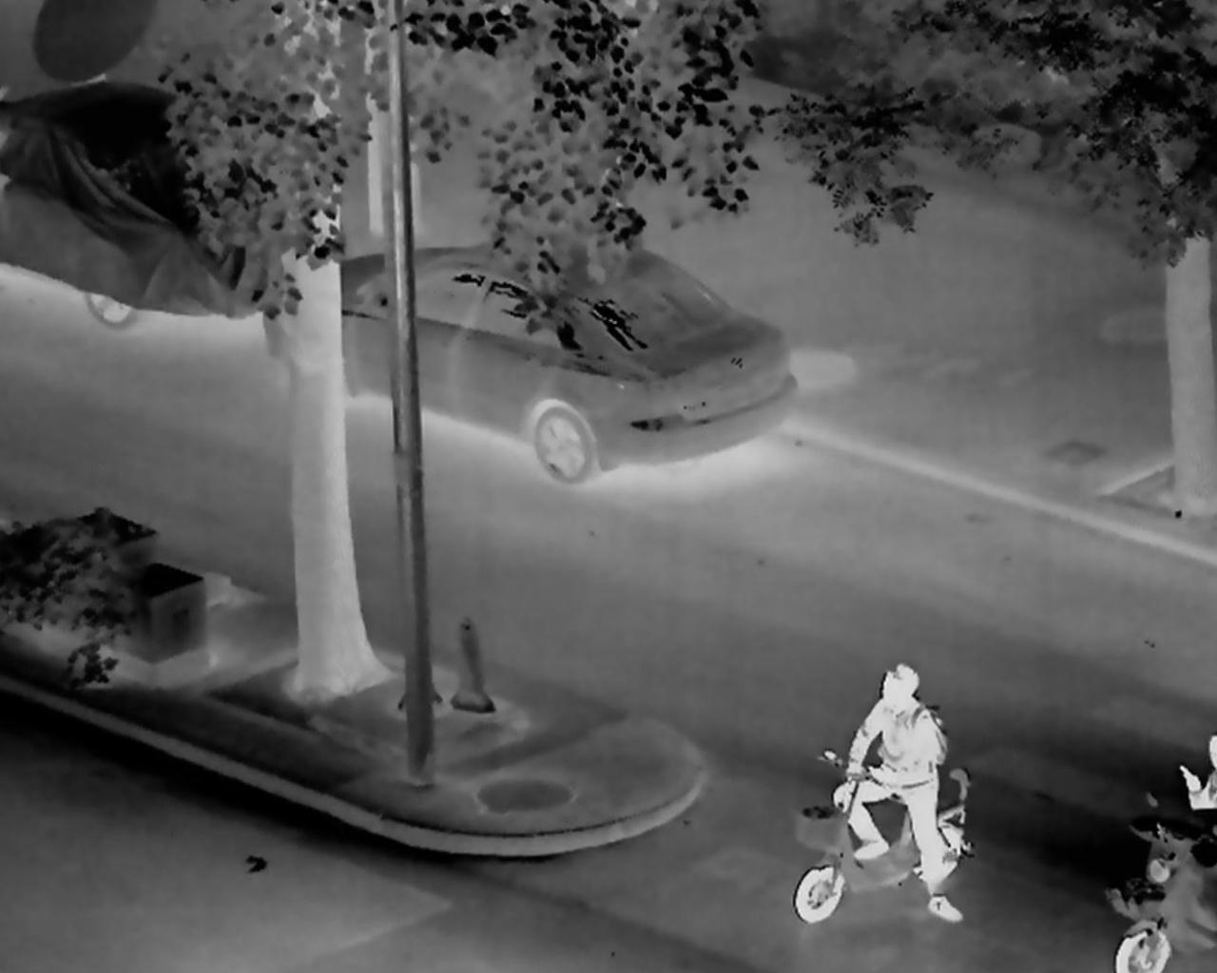person: (832, 661, 963, 924), (1182, 728, 1217, 814)
